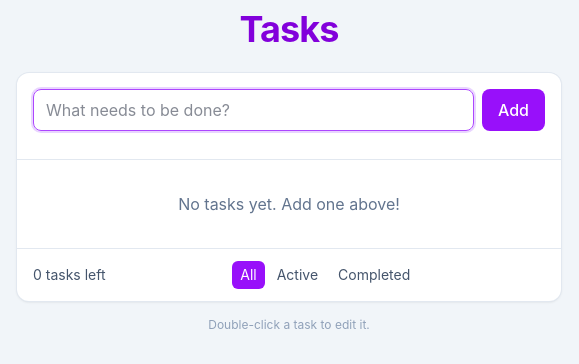
Test: US-9 Time spent › shows 0 time for a new task and adds manual minutes to the total
In the field named "New task": [254, 110] box [33,89,474,131], type "Write report"
Then press Enter
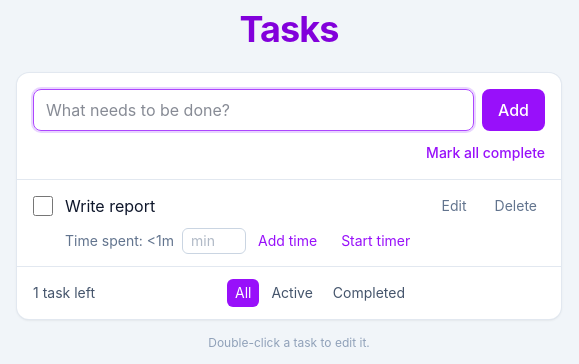
Expected: the list item shows "Time spent: <1m", [17,180,561,266]
In the number field named "Minutes to add": [214, 241] box [182,228,246,254], type "30"
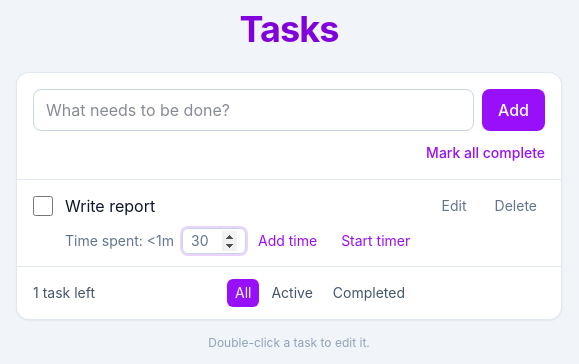
Click the button with aria-label "Add time to": [288, 241] box [250,229,325,253]
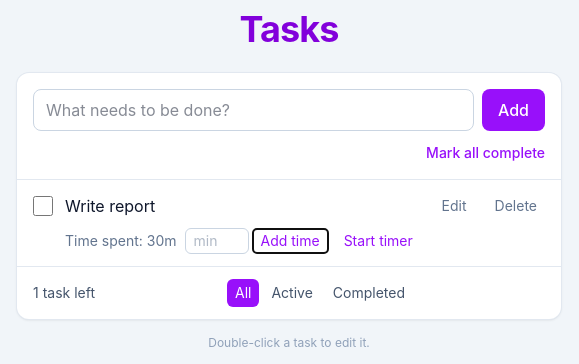
Expected: the list item shows "Time spent: 30m", [17,180,561,266]
In the number field named "Minutes to add": [216, 241] box [184,228,248,254], type "45"
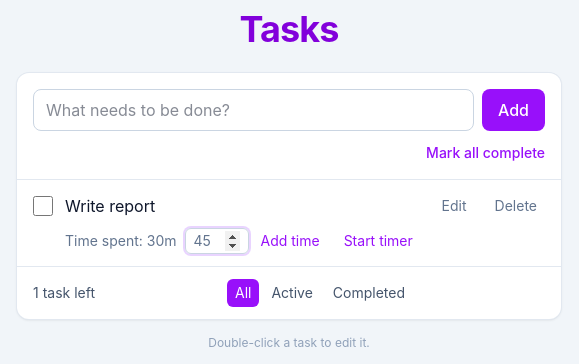
Click the button with aria-label "Add time to": [290, 241] box [252,229,328,253]
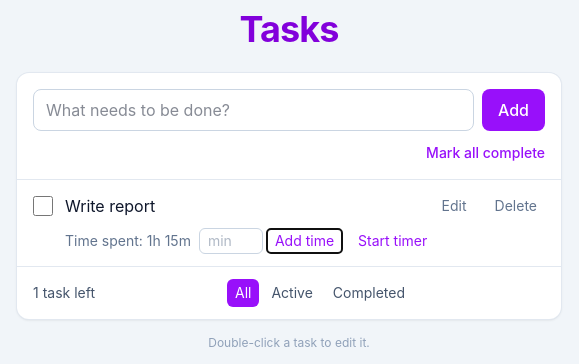
Expected: the list item shows "Time spent: 1h 15m", [17,180,561,266]
Expected: the number field named "Minutes to add" is not empty, [199,228,263,254]
